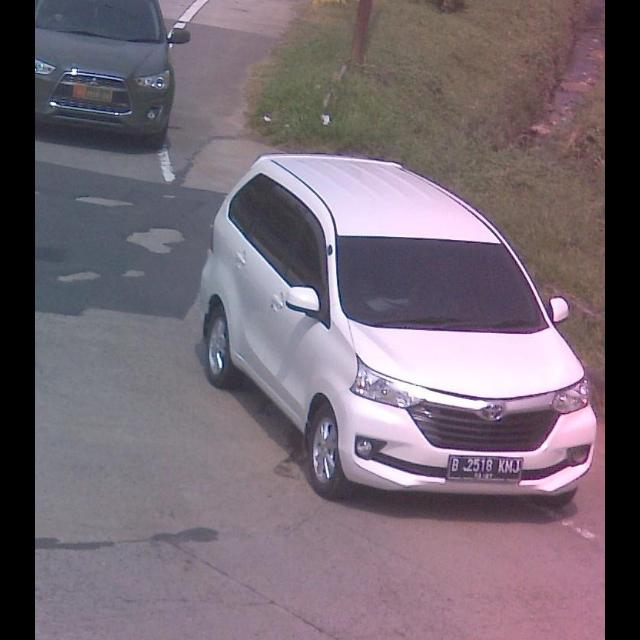plate: (444, 451, 528, 485)
